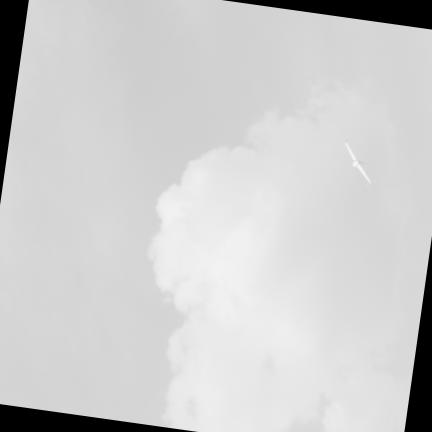Shahed: (344, 140, 369, 181)
